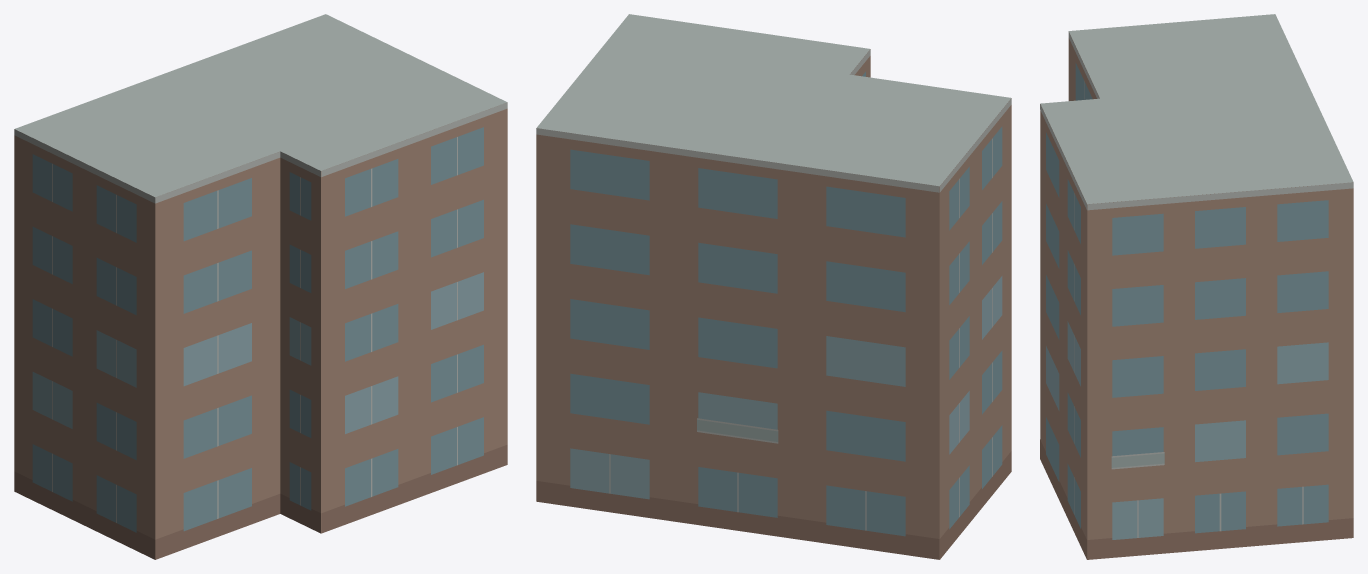
File: survey-upis-32725465.glb
The picture shows the model from 3 angles, left to right: view 1: azimuth 30°, elevation 25°; view 2: azimuth 150°, elevation 25°; view 3: azimuth 270°, elevation 25°; orthographic projection. The views are drawn at different scales.
Parts seen in each view (by area): view 1: survey-upis-32725465.tmp; view 2: survey-upis-32725465.tmp; view 3: survey-upis-32725465.tmp.
Part boxes in pixels (x1,y1,x2,y2): survey-upis-32725465.tmp: (14,14,507,559); survey-upis-32725465.tmp: (536,14,1011,559); survey-upis-32725465.tmp: (1040,14,1353,559).
Size of the model in its own units: 16.3 by 14.2 by 11.35.
